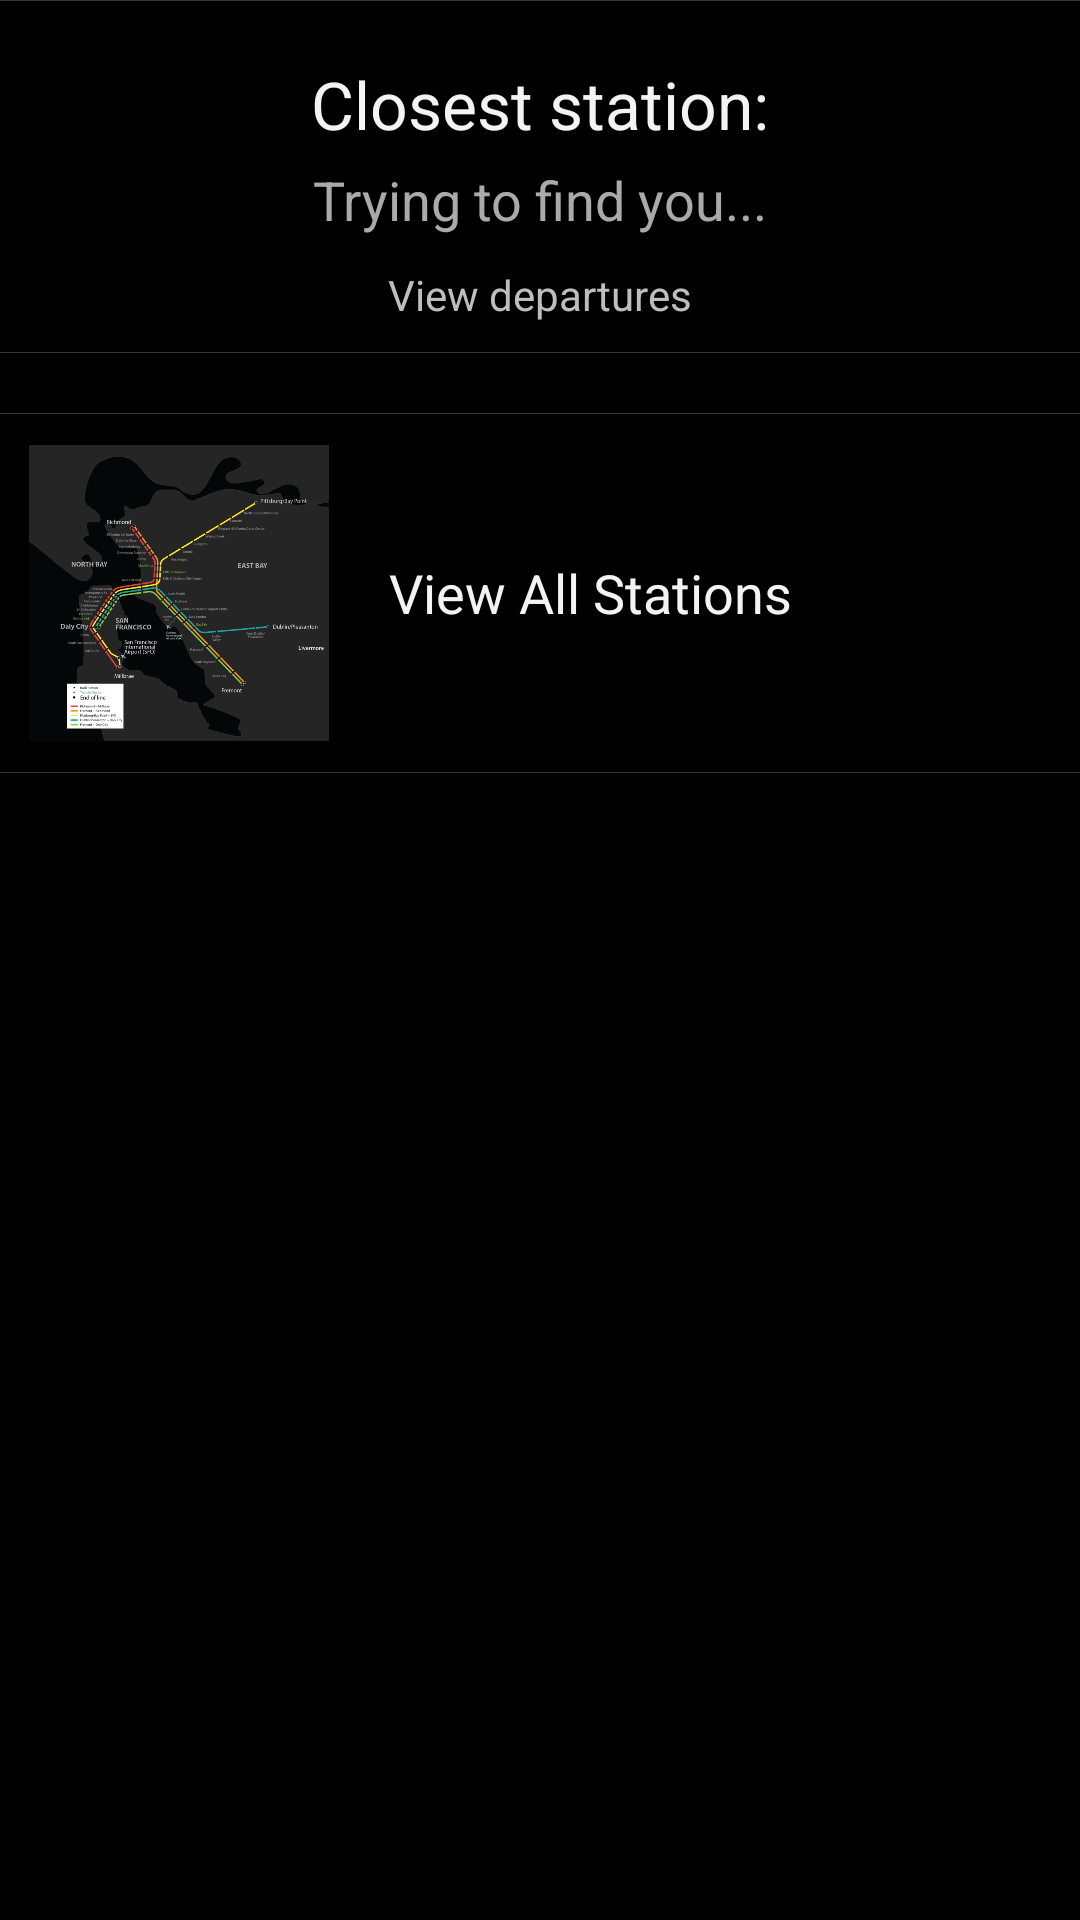

Screen size 1080px x 1920px. Icon name, then its box in pixels as (x1, y1, x2, y2):
map: (29, 445, 329, 741)
